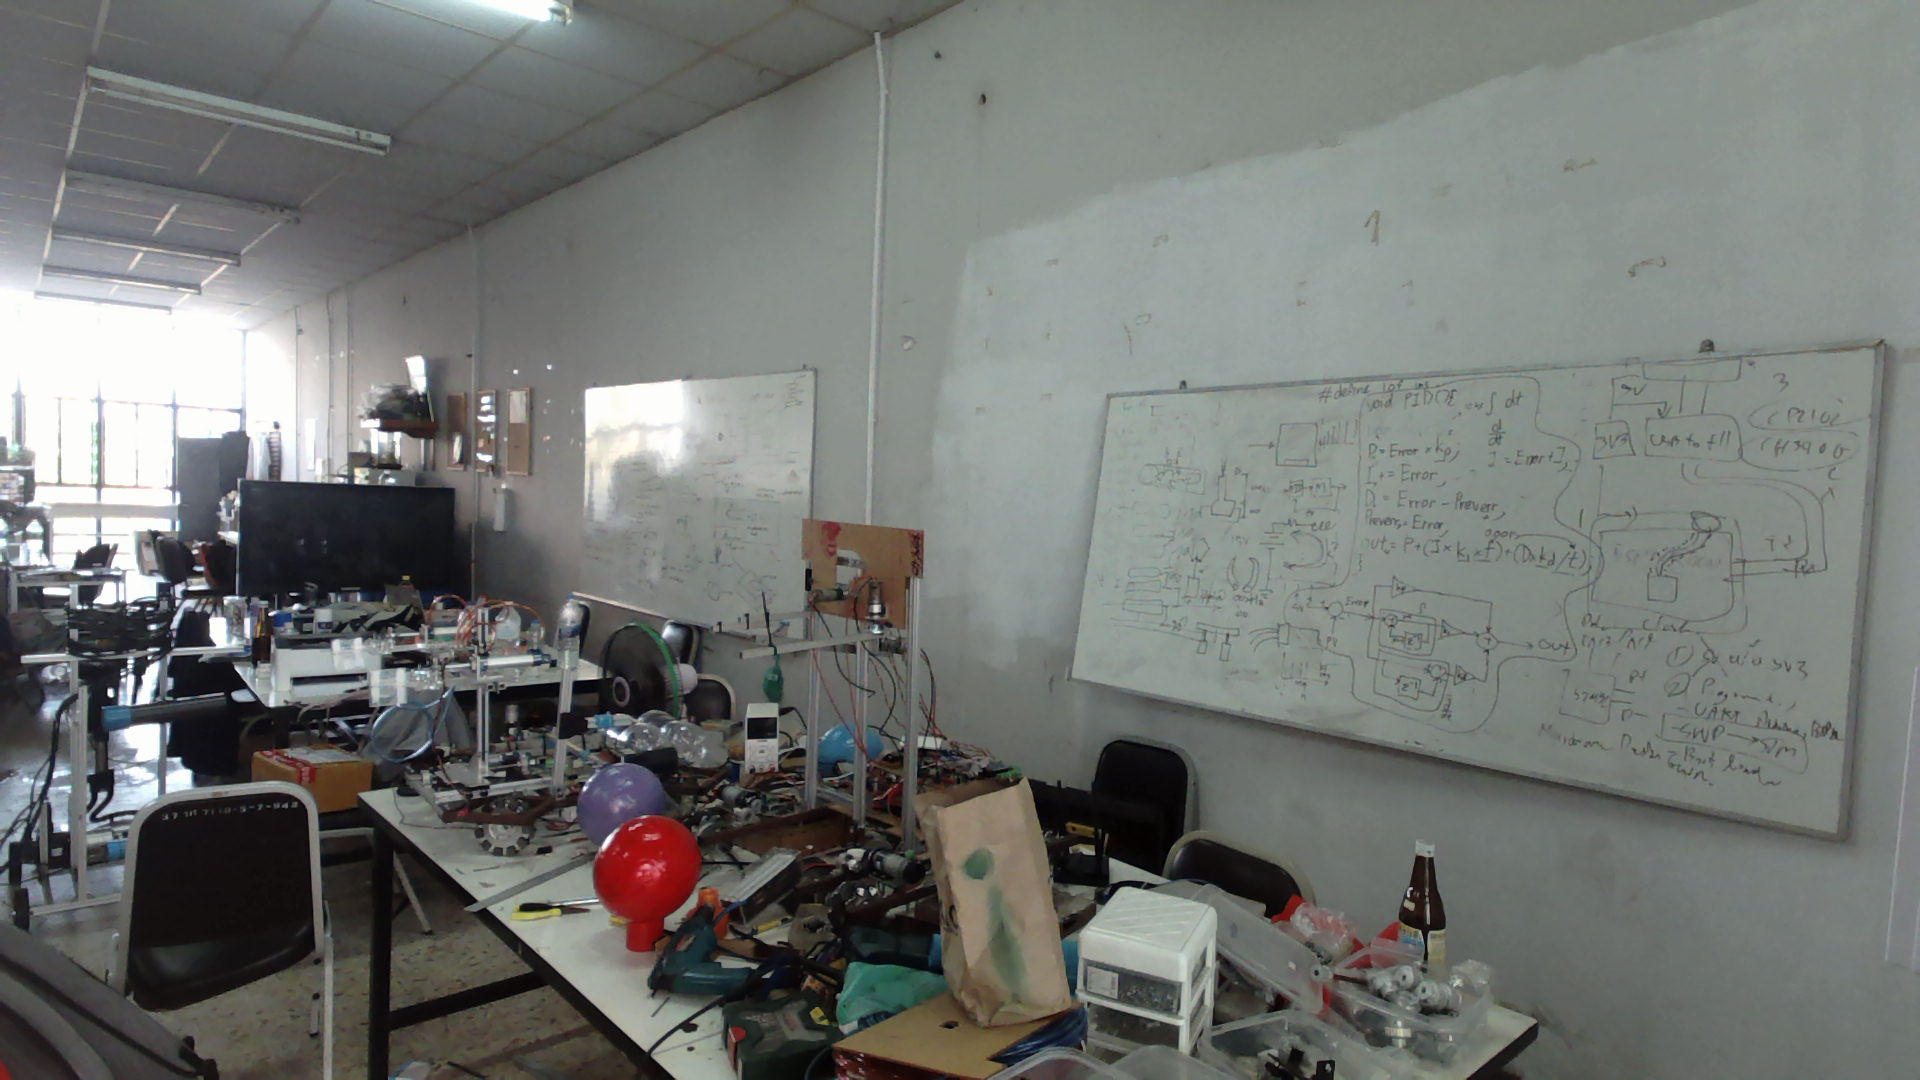Purple ball: (578, 761, 666, 832)
Red ball: (591, 812, 703, 926)
